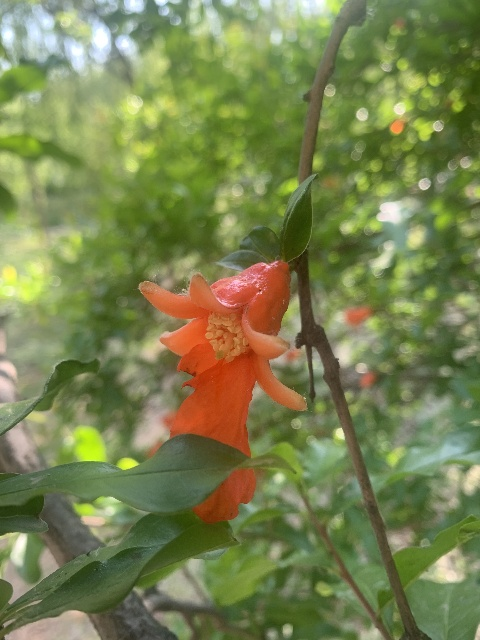flower: (139, 258, 307, 520)
